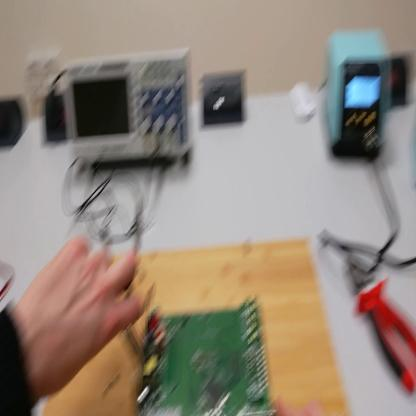hand: (20, 233, 144, 394), (276, 392, 326, 415)
low voltage board: (145, 273, 288, 416)
oscilloscope: (67, 45, 196, 169)
oscilloscope probe tip: (134, 188, 144, 243)
pliers: (348, 253, 416, 394), (121, 322, 146, 367)
socket: (1, 93, 27, 153), (45, 98, 69, 145)
welder station: (327, 24, 393, 166)
working area: (44, 243, 348, 415)
